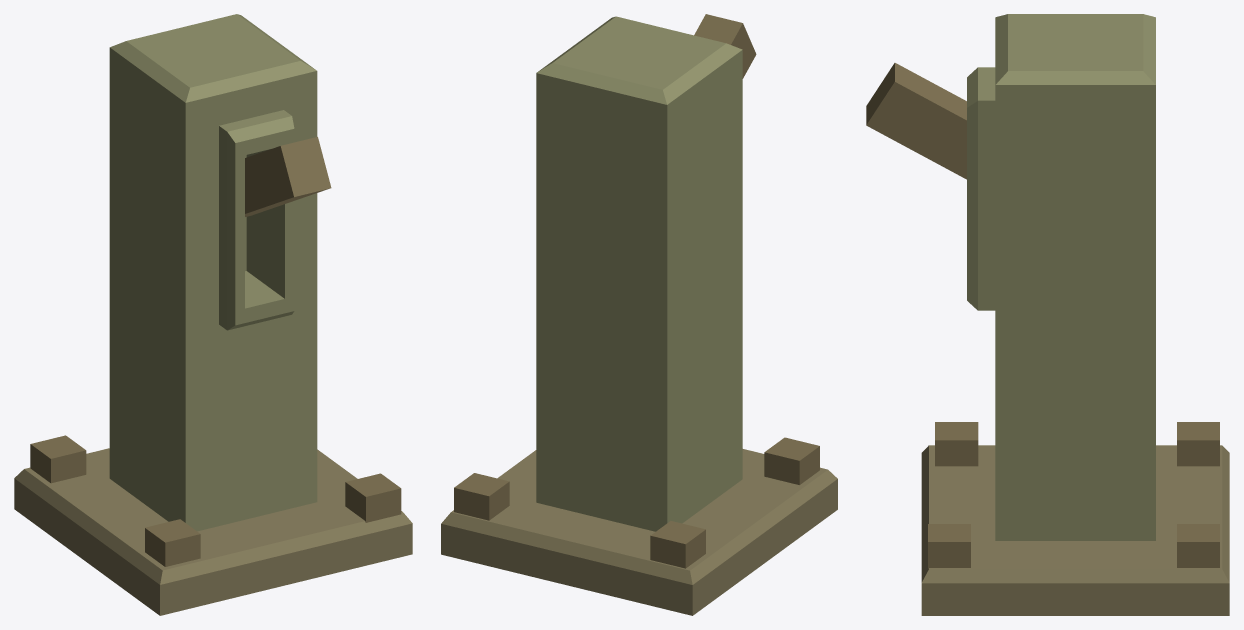
Rendered from Switch_1.fbx.
3 renders of one model, left to right at view 1: azimuth 30°, elevation 25°; view 2: azimuth 150°, elevation 25°; view 3: azimuth 270°, elevation 25°, orthographic. The views are drawn at different scales.
Visible parts, largest first — view 1: Cube, Cube.001; view 2: Cube, Cube.001; view 3: Cube, Cube.001.
Boxes of the visible parts, left/top/right/bottom form: Cube: left=14, top=14, right=412, bottom=615; Cube.001: left=245, top=137, right=331, bottom=216; Cube: left=441, top=16, right=837, bottom=615; Cube.001: left=694, top=14, right=756, bottom=78; Cube: left=921, top=14, right=1229, bottom=615; Cube.001: left=866, top=63, right=966, bottom=179.
Bounding box in the file's own units: 2 × 3.64 × 2.36.
